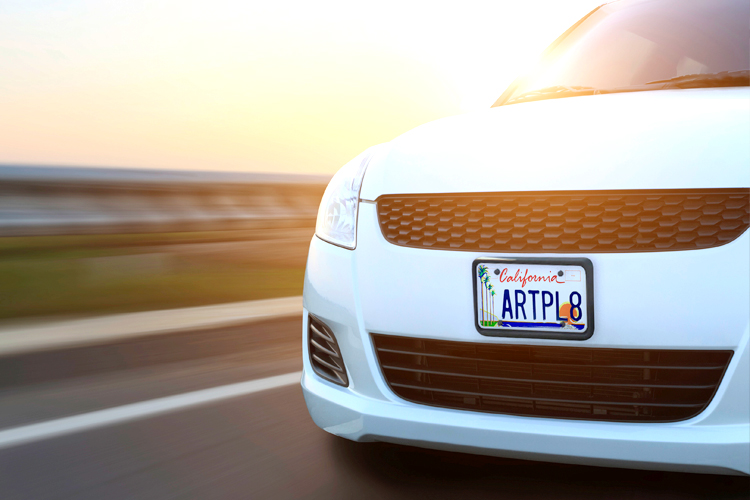license plate: (469, 254, 595, 343)
